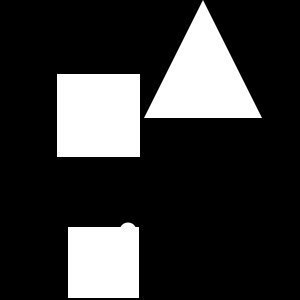circle: (57, 74, 140, 157), (68, 227, 139, 298)
rectangle: (120, 222, 136, 240)
triangle: (144, 0, 262, 118)
